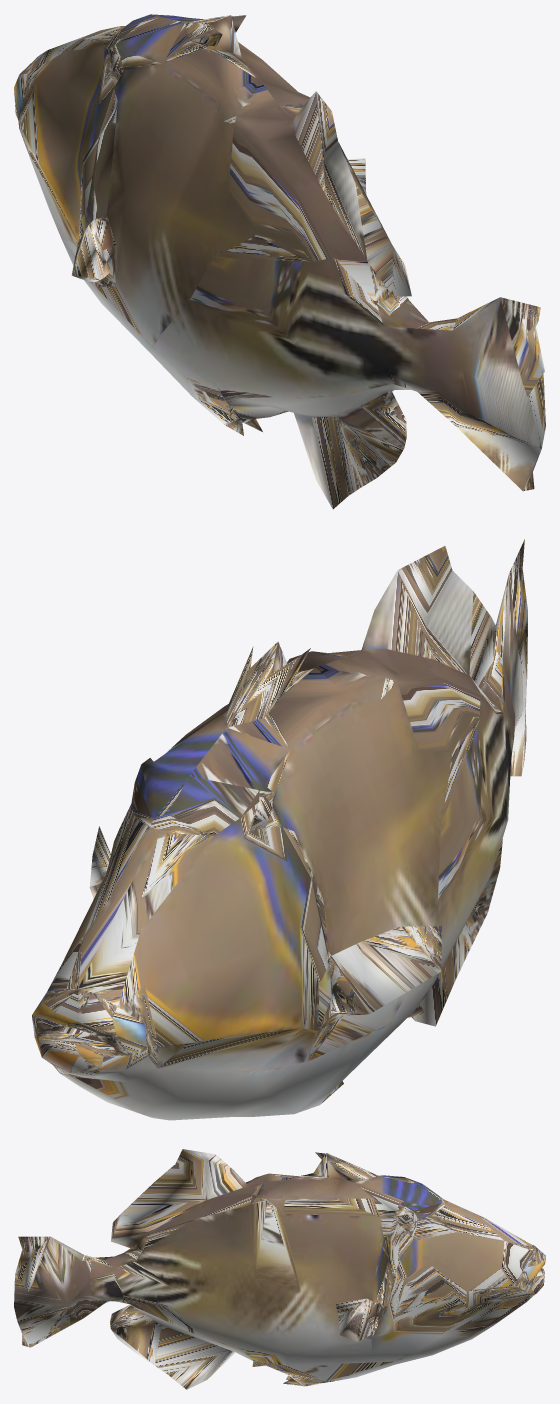
File: picasso-ver.glb
3 renders of one model, top to bottom at view 1: azimuth 30°, elevation 25°; view 2: azimuth 150°, elevation 25°; view 3: azimuth 270°, elevation 25°, orthographic. The views are drawn at different scales.
Visible parts, largest first — view 1: tripo_node_fb9a2bac-9104-442f-82ff-63b52b63518c; view 2: tripo_node_fb9a2bac-9104-442f-82ff-63b52b63518c; view 3: tripo_node_fb9a2bac-9104-442f-82ff-63b52b63518c.
Boxes of the visible parts, left/top/right/bottom form: tripo_node_fb9a2bac-9104-442f-82ff-63b52b63518c: left=14, top=14, right=545, bottom=509; tripo_node_fb9a2bac-9104-442f-82ff-63b52b63518c: left=32, top=539, right=527, bottom=1120; tripo_node_fb9a2bac-9104-442f-82ff-63b52b63518c: left=14, top=1149, right=545, bottom=1389.
Bounding box in the file's own units: 0.2259 × 0.2965 × 0.5919.
Materials: 1 (1 with a texture image).
